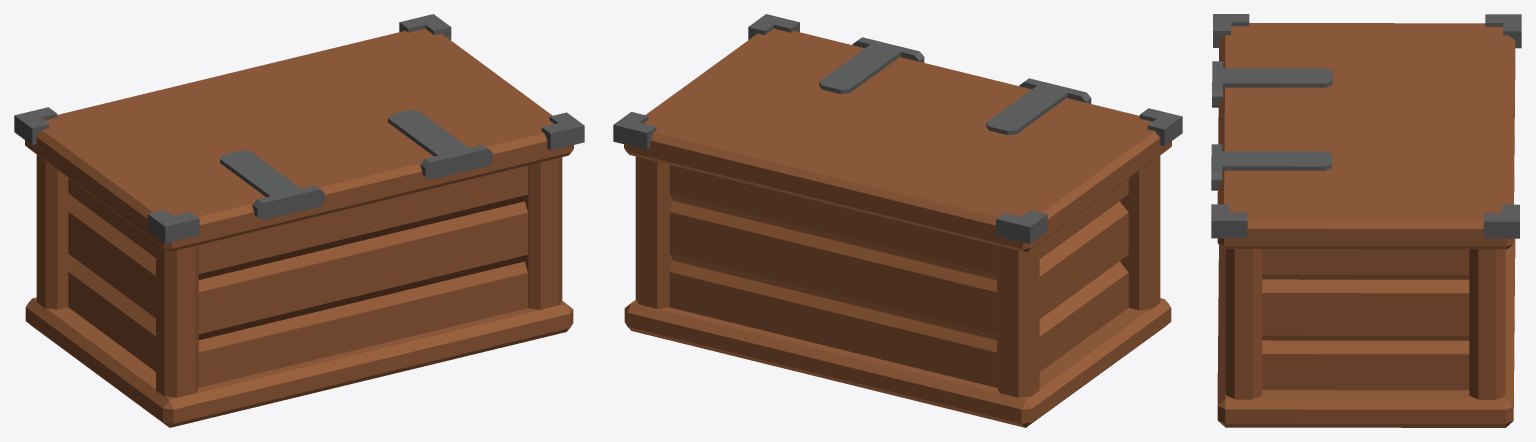
The model's file is Box_Wood_A.fbx.
3 renders of one model, left to right at view 1: azimuth 30°, elevation 25°; view 2: azimuth 150°, elevation 25°; view 3: azimuth 270°, elevation 25°, orthographic.
Parts seen in each view (by area): view 1: Box_Wood_A; view 2: Box_Wood_A; view 3: Box_Wood_A.
Part boxes in pixels (x1,y1,x2,y2): Box_Wood_A: [14, 14, 584, 427]; Box_Wood_A: [613, 14, 1182, 427]; Box_Wood_A: [1211, 14, 1521, 427].
Size of the model in its own units: 77.18 by 36.8 by 48.78.
